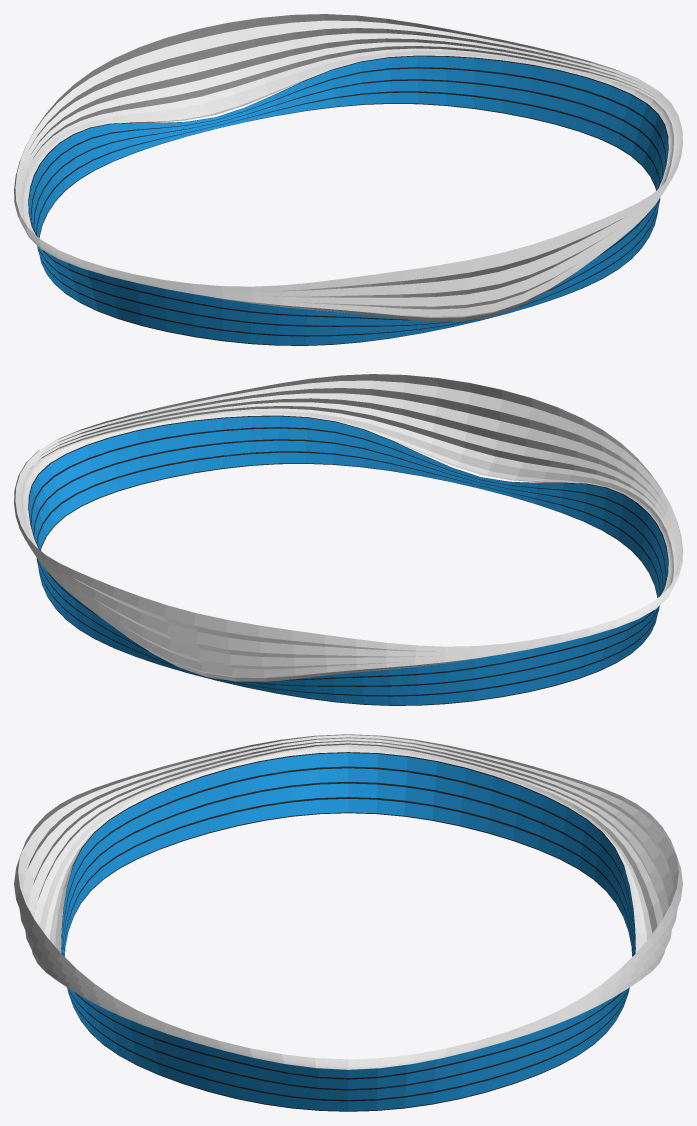
File: eblock_stadion3-outerRing.fbx
The picture shows the model from 3 angles, top to bottom: view 1: azimuth 30°, elevation 25°; view 2: azimuth 150°, elevation 25°; view 3: azimuth 270°, elevation 25°; orthographic projection. The views are drawn at different scales.
Parts seen in each view (by area): view 1: Tessellation.002, Tessellation.003; view 2: Tessellation.002, Tessellation.003; view 3: Tessellation.003, Tessellation.002.
Boxes of the visible parts, bbox=[...] form: Tessellation.002: bbox=[14, 14, 682, 321]; Tessellation.003: bbox=[28, 55, 668, 345]; Tessellation.002: bbox=[14, 374, 682, 681]; Tessellation.003: bbox=[28, 415, 668, 705]; Tessellation.003: bbox=[61, 752, 635, 1111]; Tessellation.002: bbox=[14, 734, 682, 1069].
Size of the model in its own units: 3630 by 470 by 3135.
